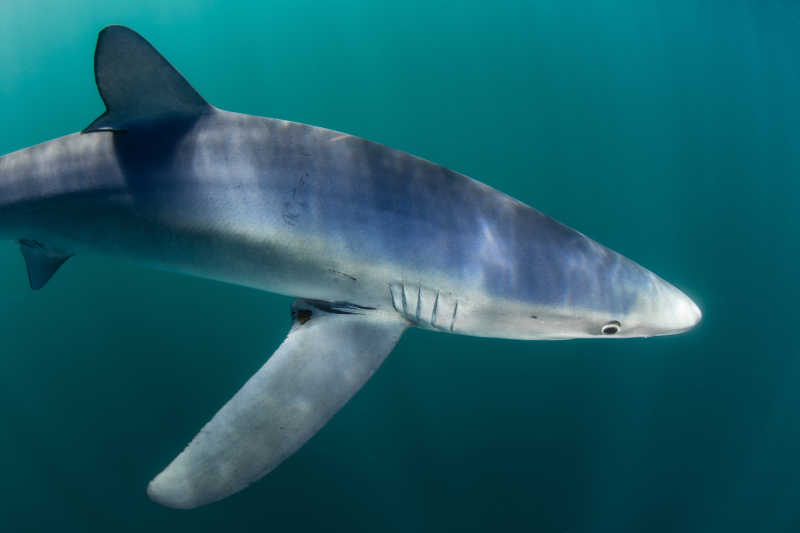shark: (1, 19, 726, 515)
